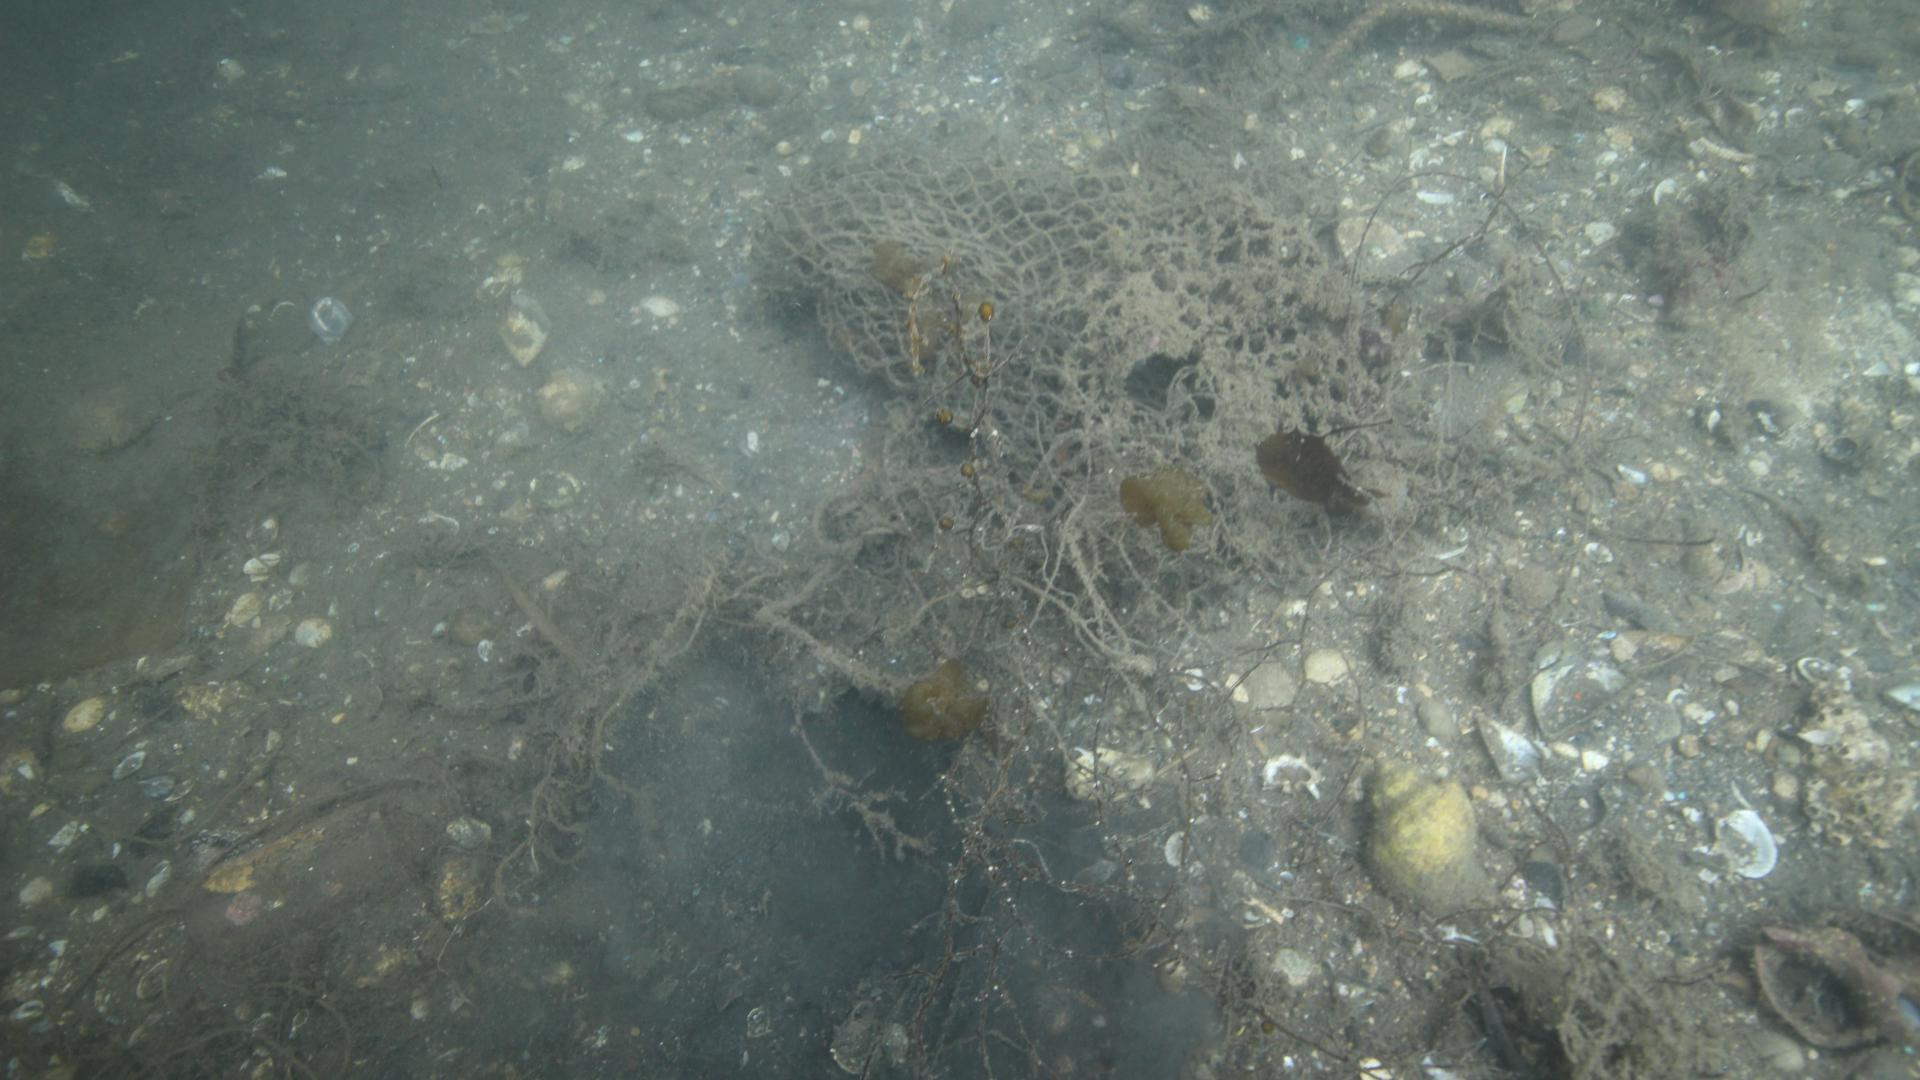fish net: (752, 149, 1352, 477)
